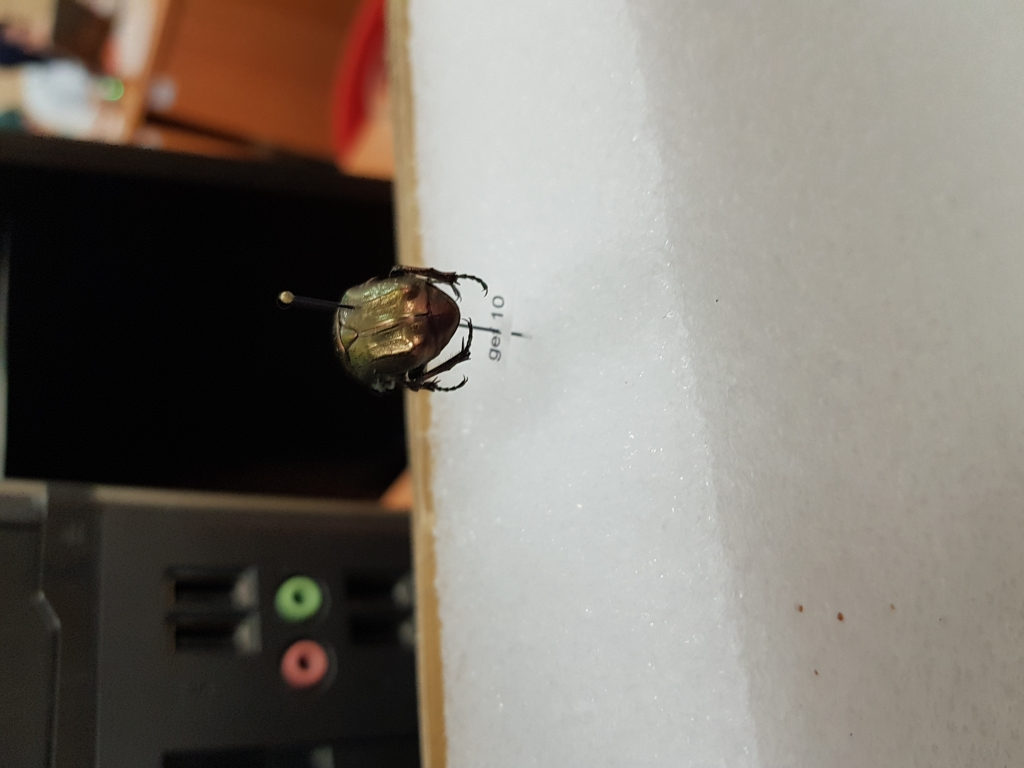Cetonia_aurata: (327, 266, 495, 399)
